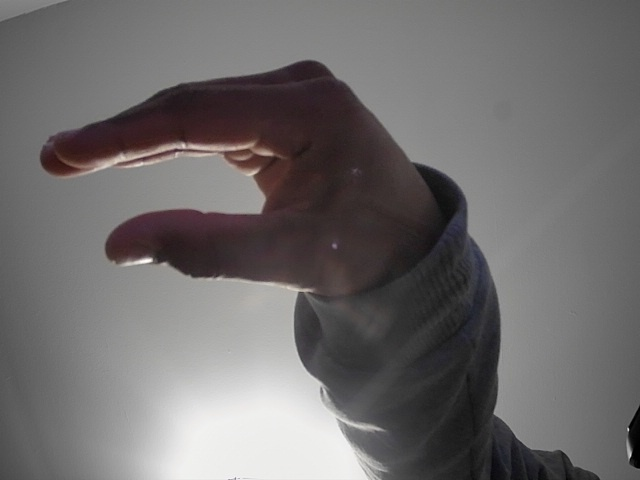No: (14, 49, 484, 332)
